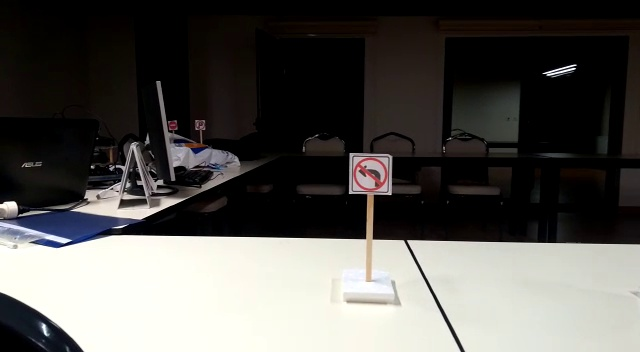sola_donulmez: (351, 157, 388, 191)
